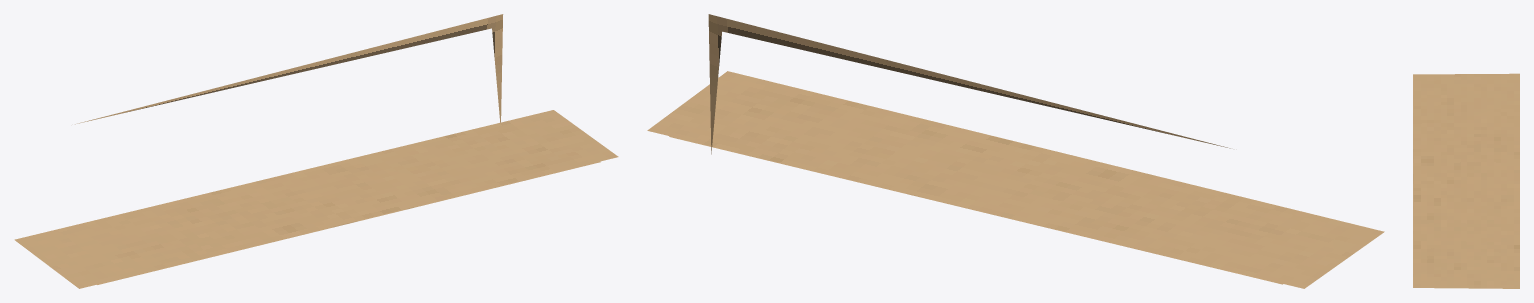
The picture shows the model from 3 angles, left to right: view 1: azimuth 30°, elevation 25°; view 2: azimuth 150°, elevation 25°; view 3: azimuth 270°, elevation 25°; orthographic projection. The views are drawn at different scales.
Visible parts, largest first — view 1: Bench; view 2: Bench; view 3: Bench.
Boxes of the visible parts, box(x1,y1,x2,y2) form: Bench: box(14, 14, 618, 288); Bench: box(647, 14, 1384, 288); Bench: box(1413, 73, 1519, 288).
Bounding box in the file's own units: 2.43 × 0.4975 × 0.5111.
Materials: 1 (1 with a texture image).
